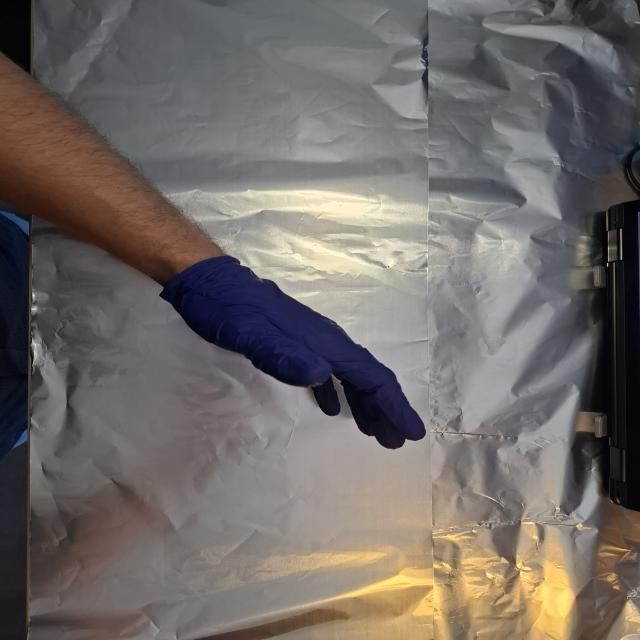glove_on: (162, 254, 430, 452)
